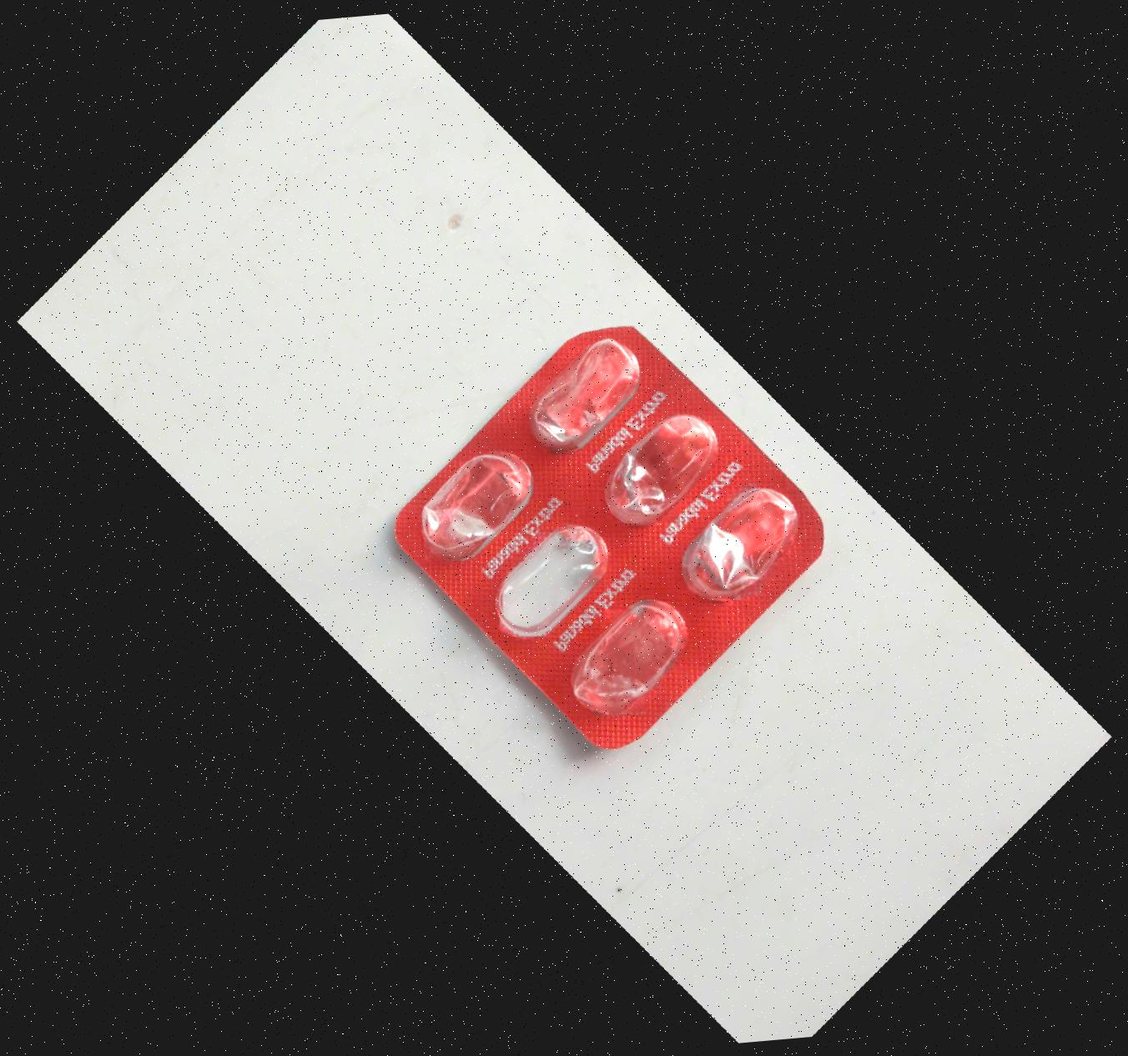Empty: (403, 428, 553, 577), (479, 504, 629, 653), (512, 318, 662, 467), (589, 394, 739, 543), (670, 468, 820, 617), (557, 584, 706, 733)
